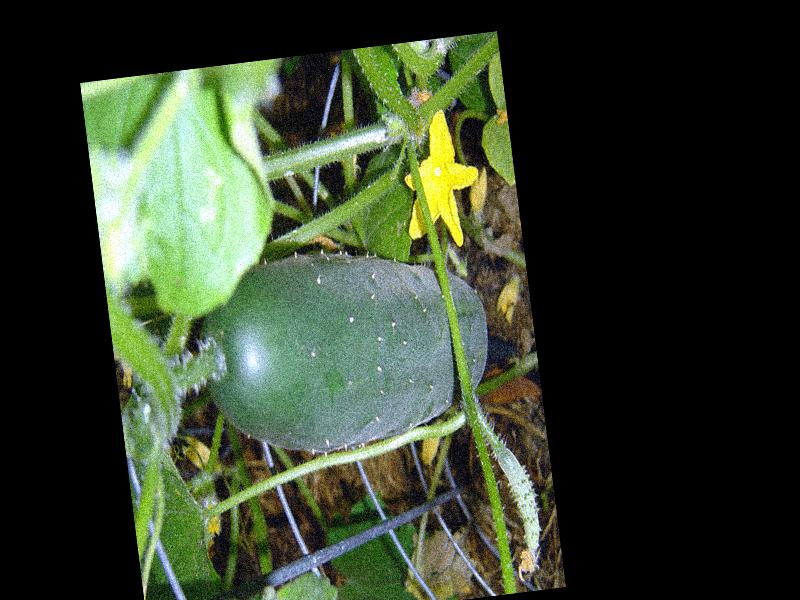Cucumber: (191, 234, 498, 468)
